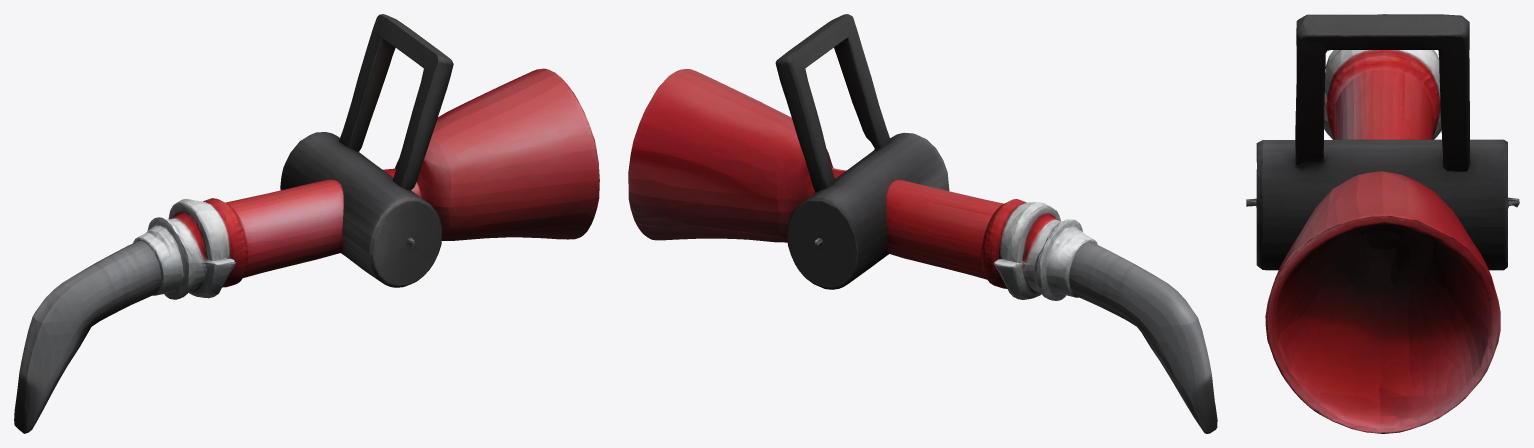
Rendered from Hose.fbx.
The picture shows the model from 3 angles, left to right: view 1: azimuth 30°, elevation 25°; view 2: azimuth 150°, elevation 25°; view 3: azimuth 270°, elevation 25°; orthographic projection. The views are drawn at different scales.
Parts seen in each view (by area): view 1: world_1; view 2: world_1; view 3: world_1.
Boxes of the visible parts, left/top/right/bottom form: world_1: left=14, top=14, right=599, bottom=433; world_1: left=628, top=14, right=1217, bottom=433; world_1: left=1246, top=14, right=1519, bottom=433.
Size of the model in its own units: 100 by 53.5 by 32.35.
1 material, 1 textured.
